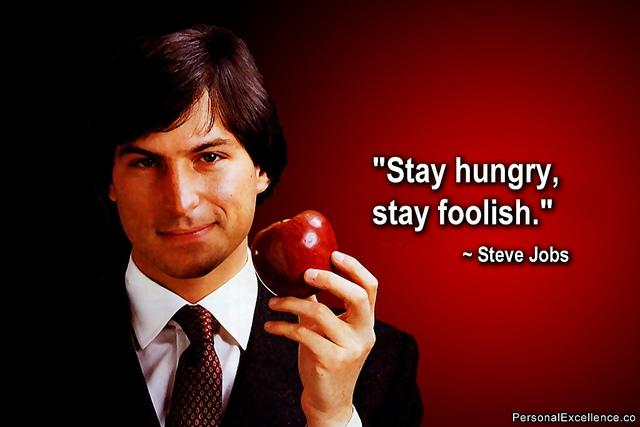apple: (250, 210, 338, 299)
